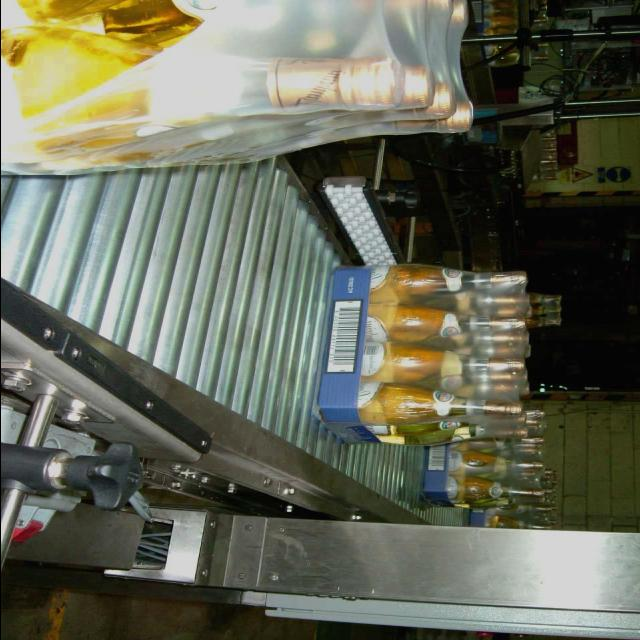bottle: (1, 47, 410, 133), (0, 101, 474, 169), (32, 61, 442, 123), (354, 381, 522, 426), (358, 341, 524, 384), (362, 302, 526, 344), (366, 262, 528, 304)
